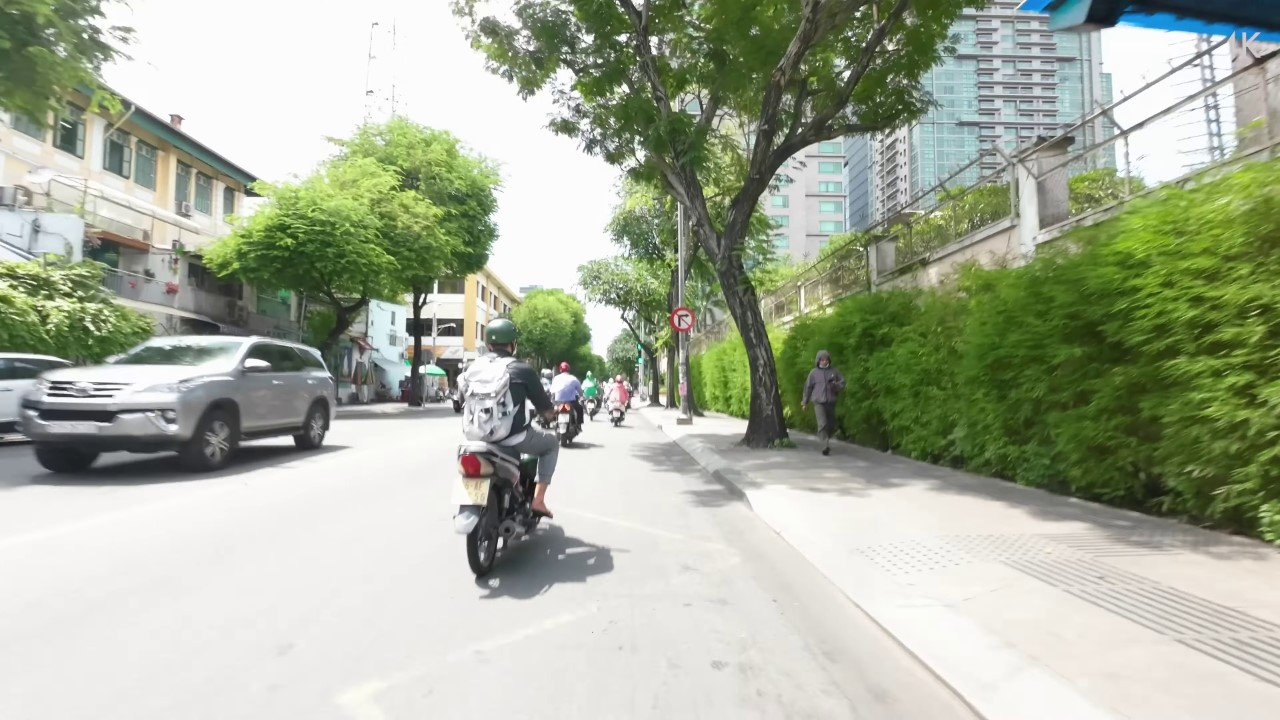cam_re_phai: (669, 306, 696, 332)
